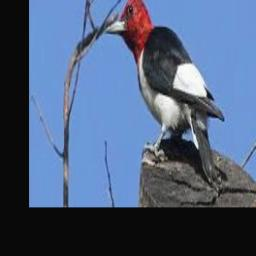Woodpecker: (105, 0, 224, 183)
